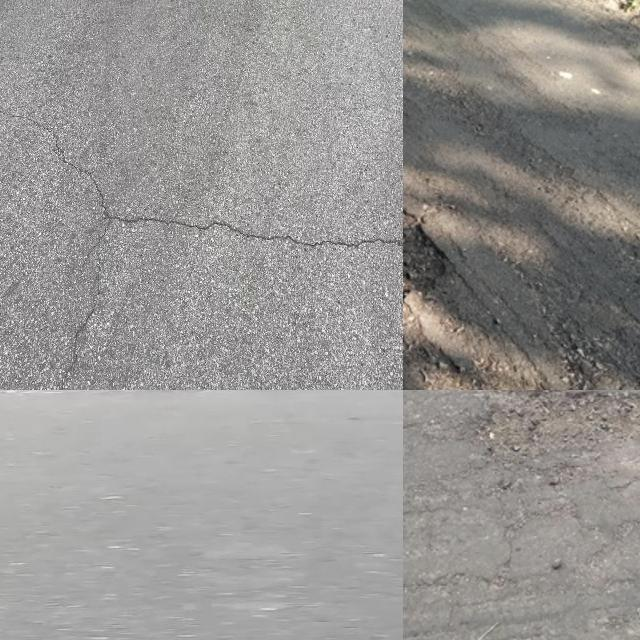Lubang: (479, 390, 640, 458), (403, 209, 446, 291)
Melintang: (91, 207, 403, 270)
